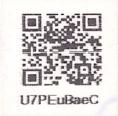QR-CODE: (20, 10, 105, 90)
